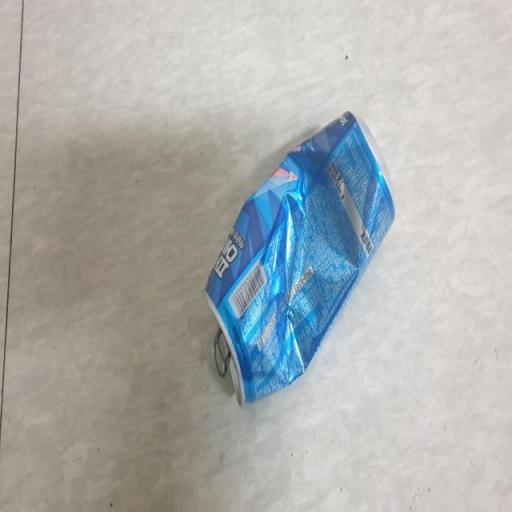metal: (189, 79, 403, 431)
